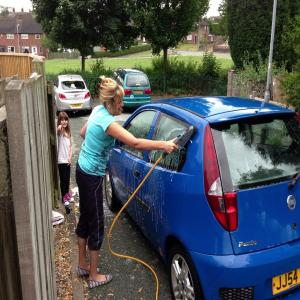Vehicle-registration-plate: (271, 268, 300, 294), (72, 104, 83, 109), (135, 91, 144, 94)
